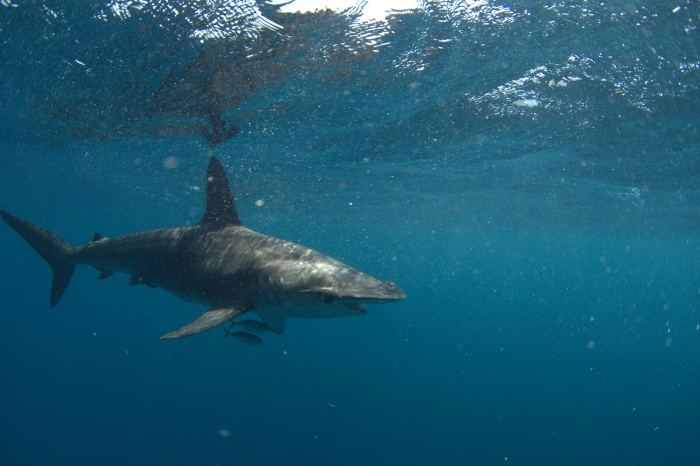Hammer: (1, 130, 425, 366)
